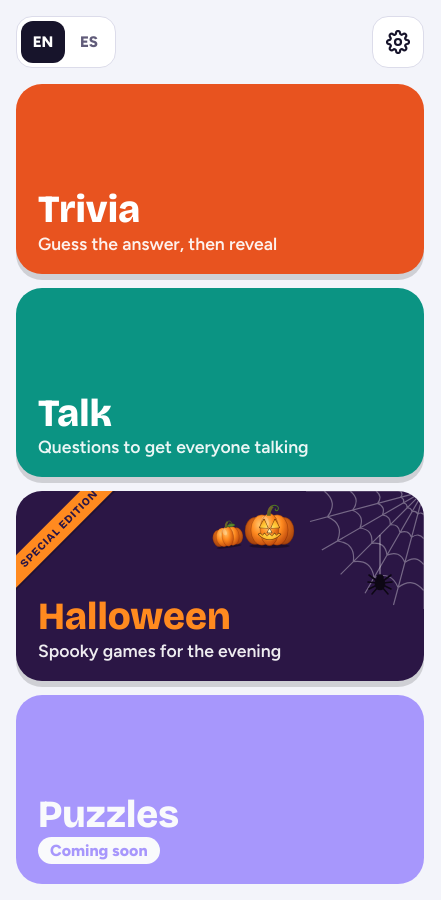
Test case: Language › switches all Home text in place from the toggle on Home
Click the button "ES". click: click(89, 42)
box: left=67, top=21, right=111, bottom=63
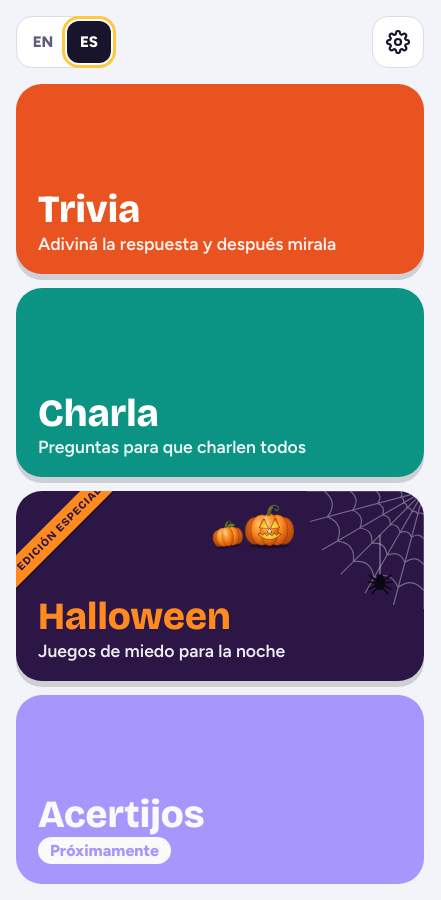
Expected: the button named "Configuración" is shown, left=372, top=16, right=424, bottom=68
Expected: the element named "Idioma" is shown, left=16, top=16, right=116, bottom=68
